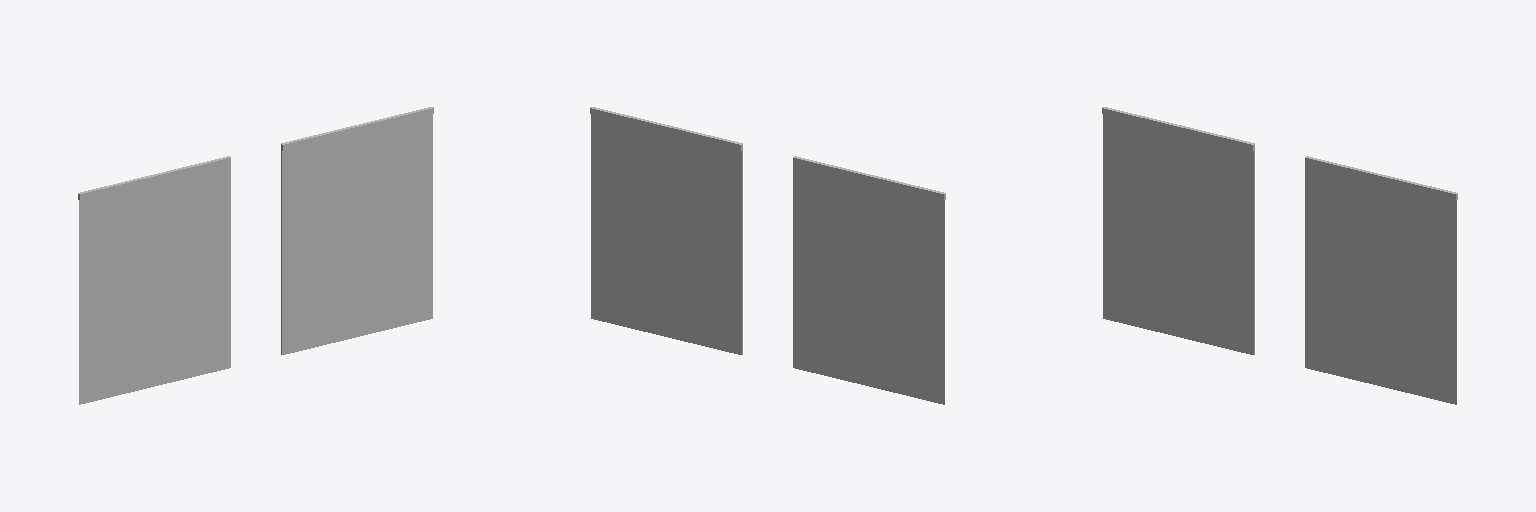
Rendered from curtain.obj.
3 views of the same model, side by side, from view 1: azimuth 30°, elevation 25°; view 2: azimuth 150°, elevation 25°; view 3: azimuth 330°, elevation 25° (orthographic).
Parts seen in each view (by area): view 1: vorhang.001_Cube.002; view 2: vorhang.001_Cube.002; view 3: vorhang.001_Cube.002.
Boxes of the visible parts, box(x1,y1,x2,y2) form: vorhang.001_Cube.002: box(78, 107, 433, 404); vorhang.001_Cube.002: box(590, 107, 945, 404); vorhang.001_Cube.002: box(1102, 107, 1457, 404).
Size of the model in its own units: 3.5 by 1.99 by 0.0354.